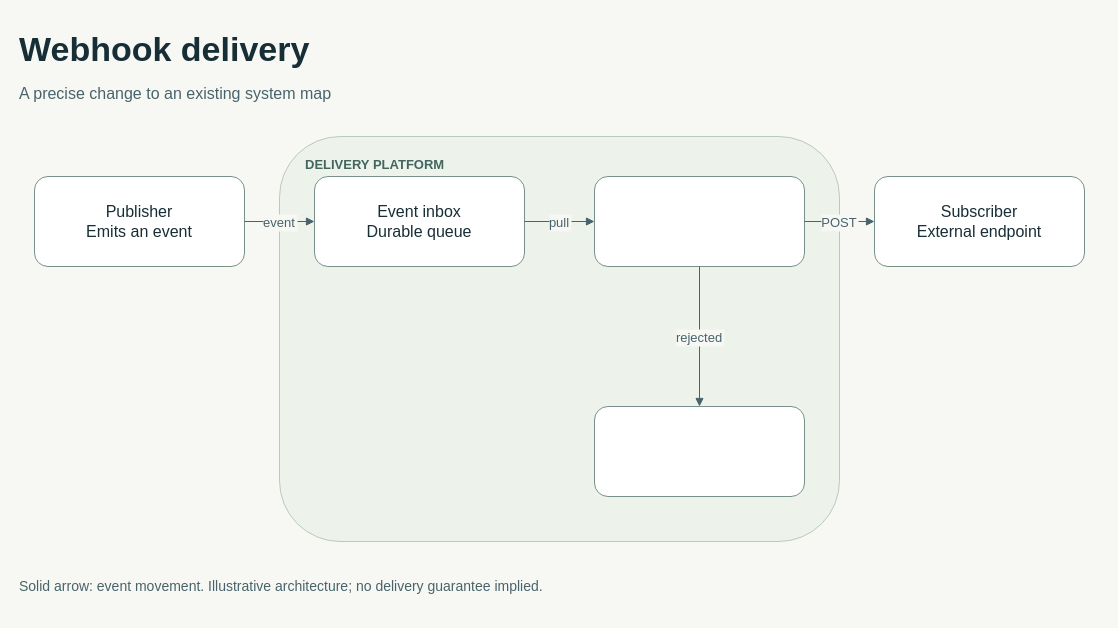
Some shapes in this 1118 by 628 pixel diagram are drawn without their labels. The centre of each missing label's shape, as x and y in pixels:
Delivery worker Sends the webhook: [699,221]
Quarantine Retains rejected events: [699,451]
